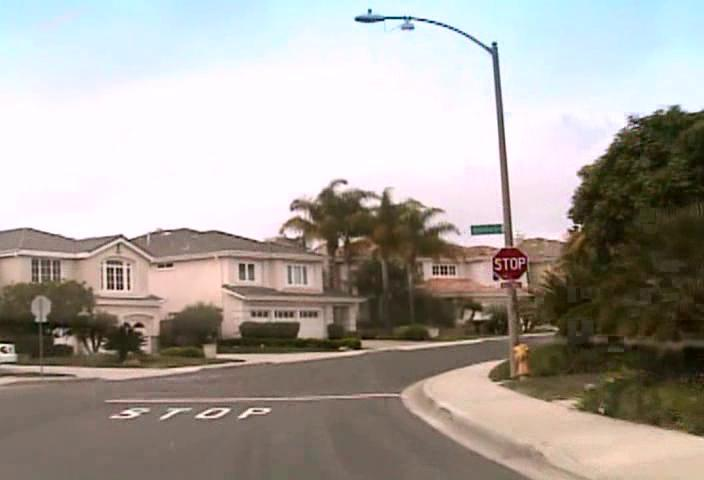stop: (492, 246, 528, 280)
